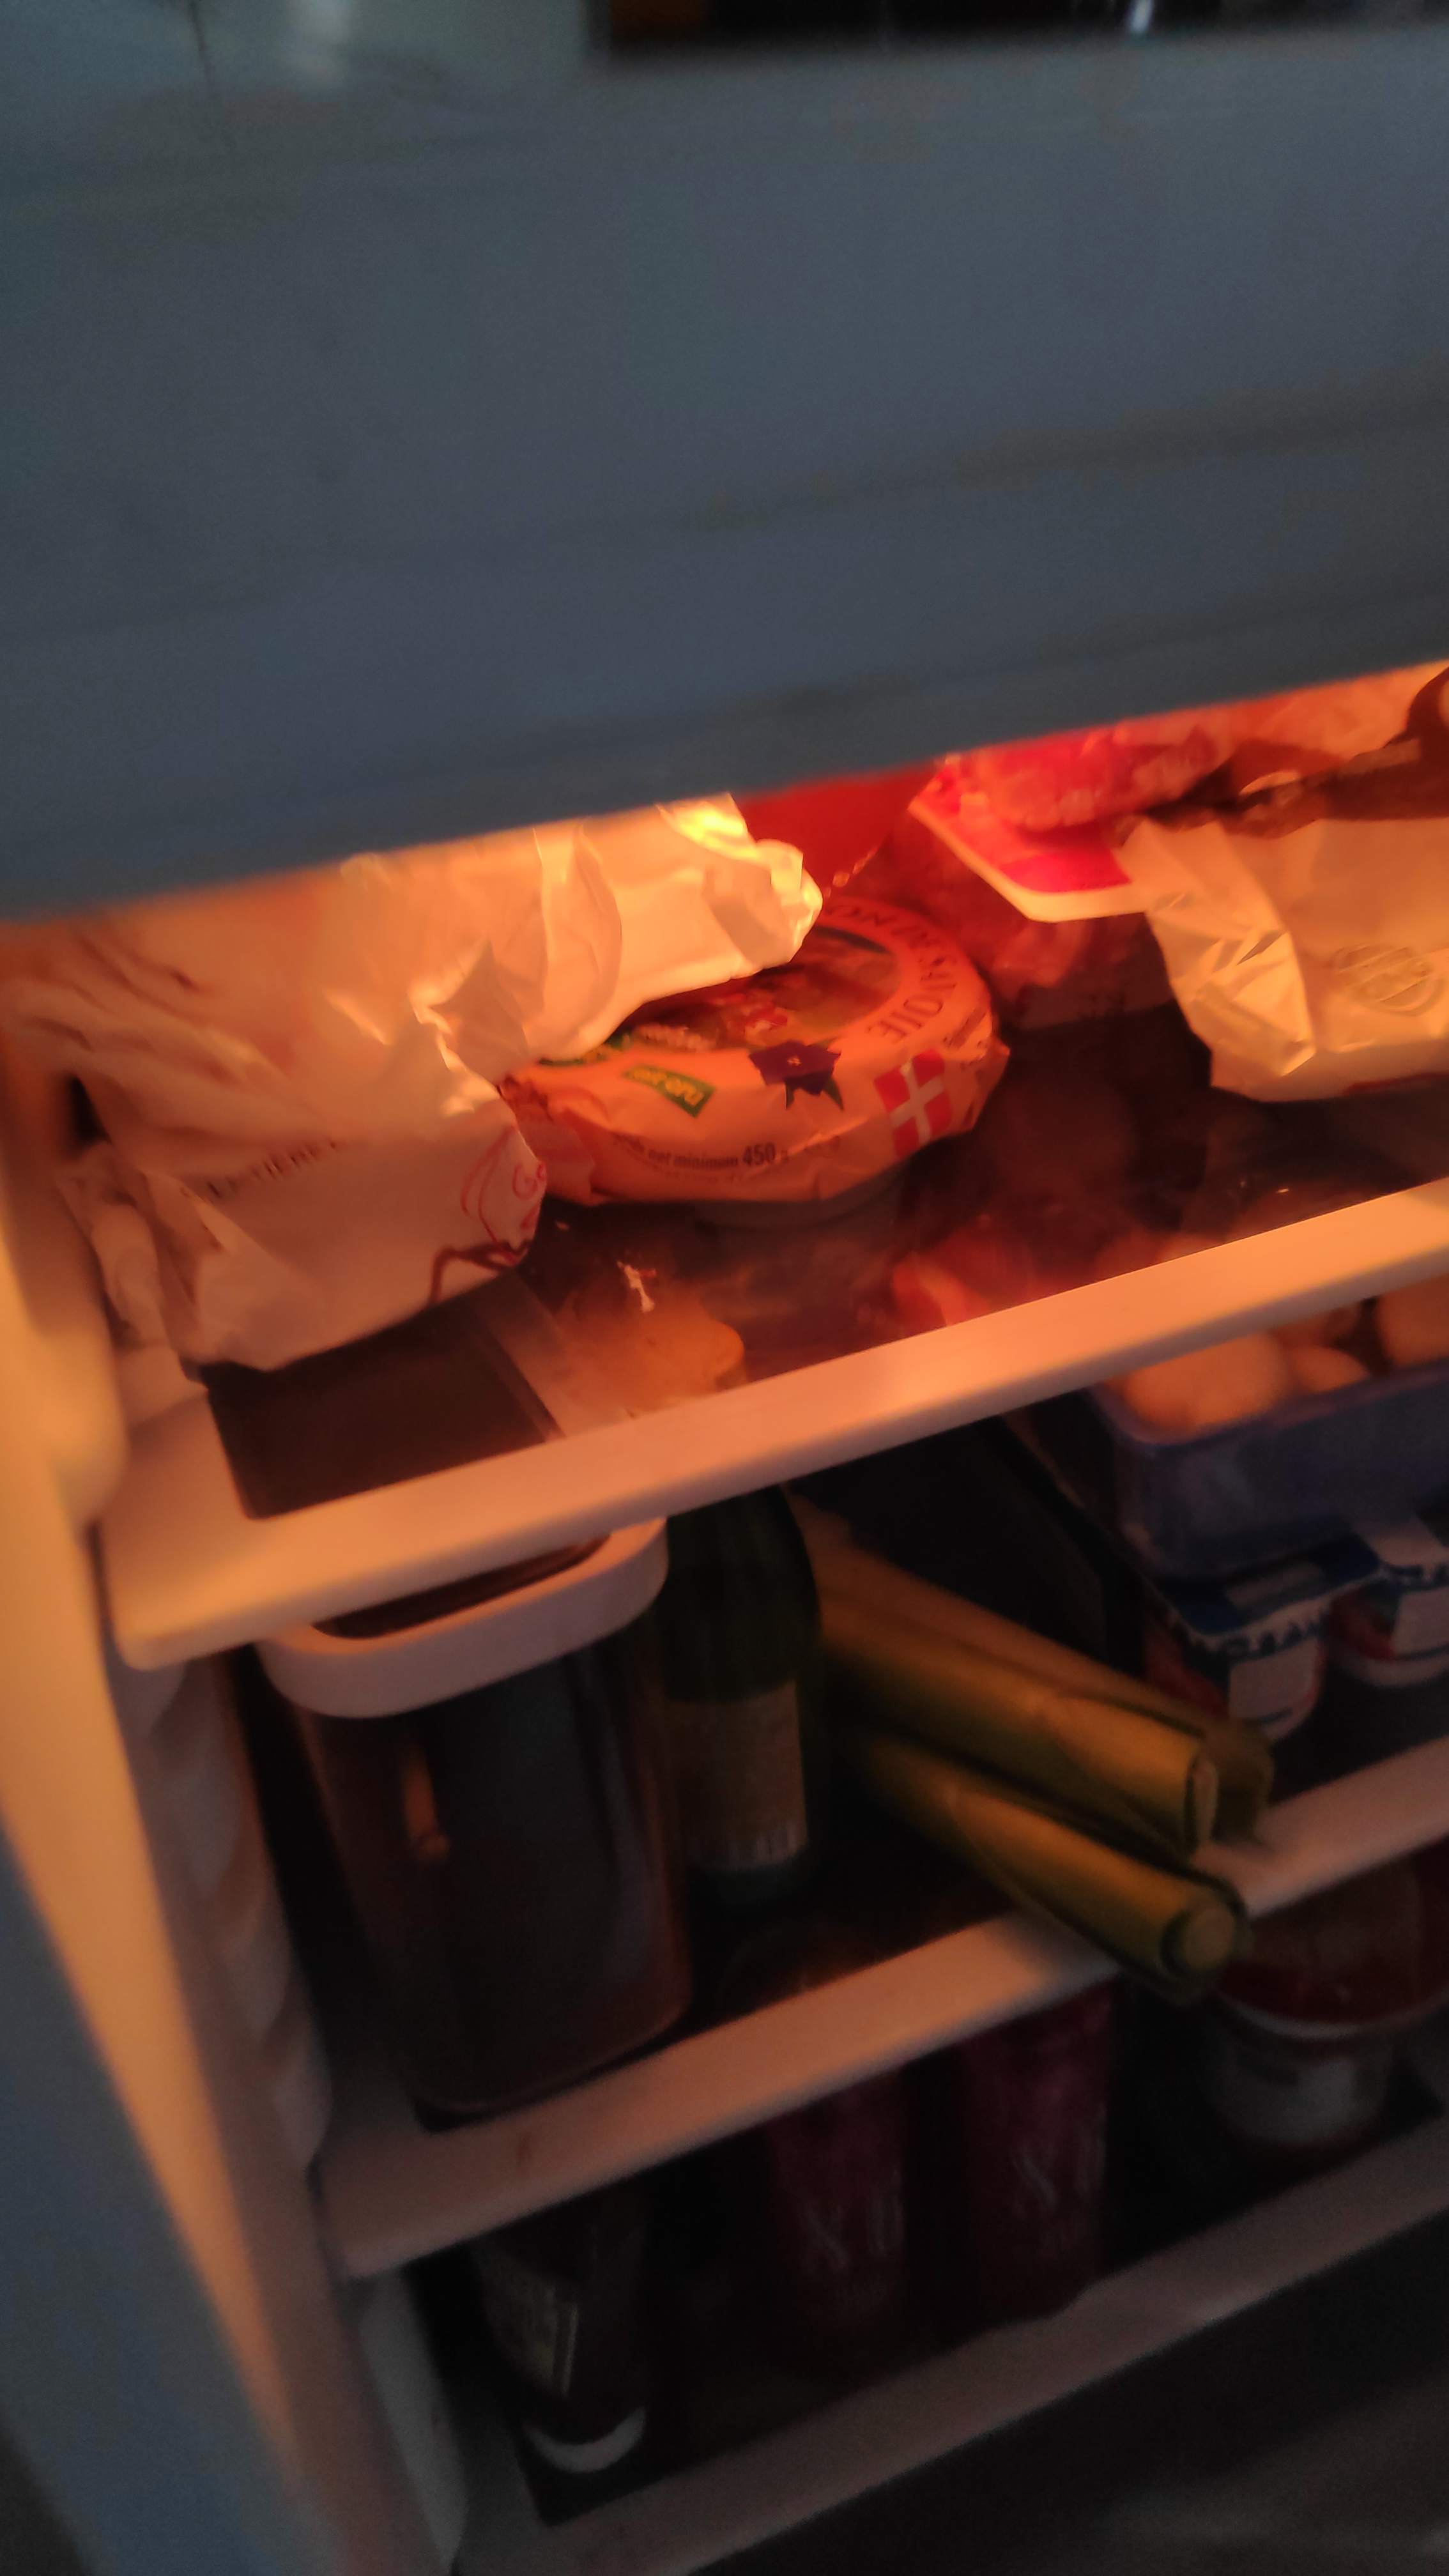yoghurt: (1157, 1543, 1350, 1752), (1350, 1516, 1447, 1693)
